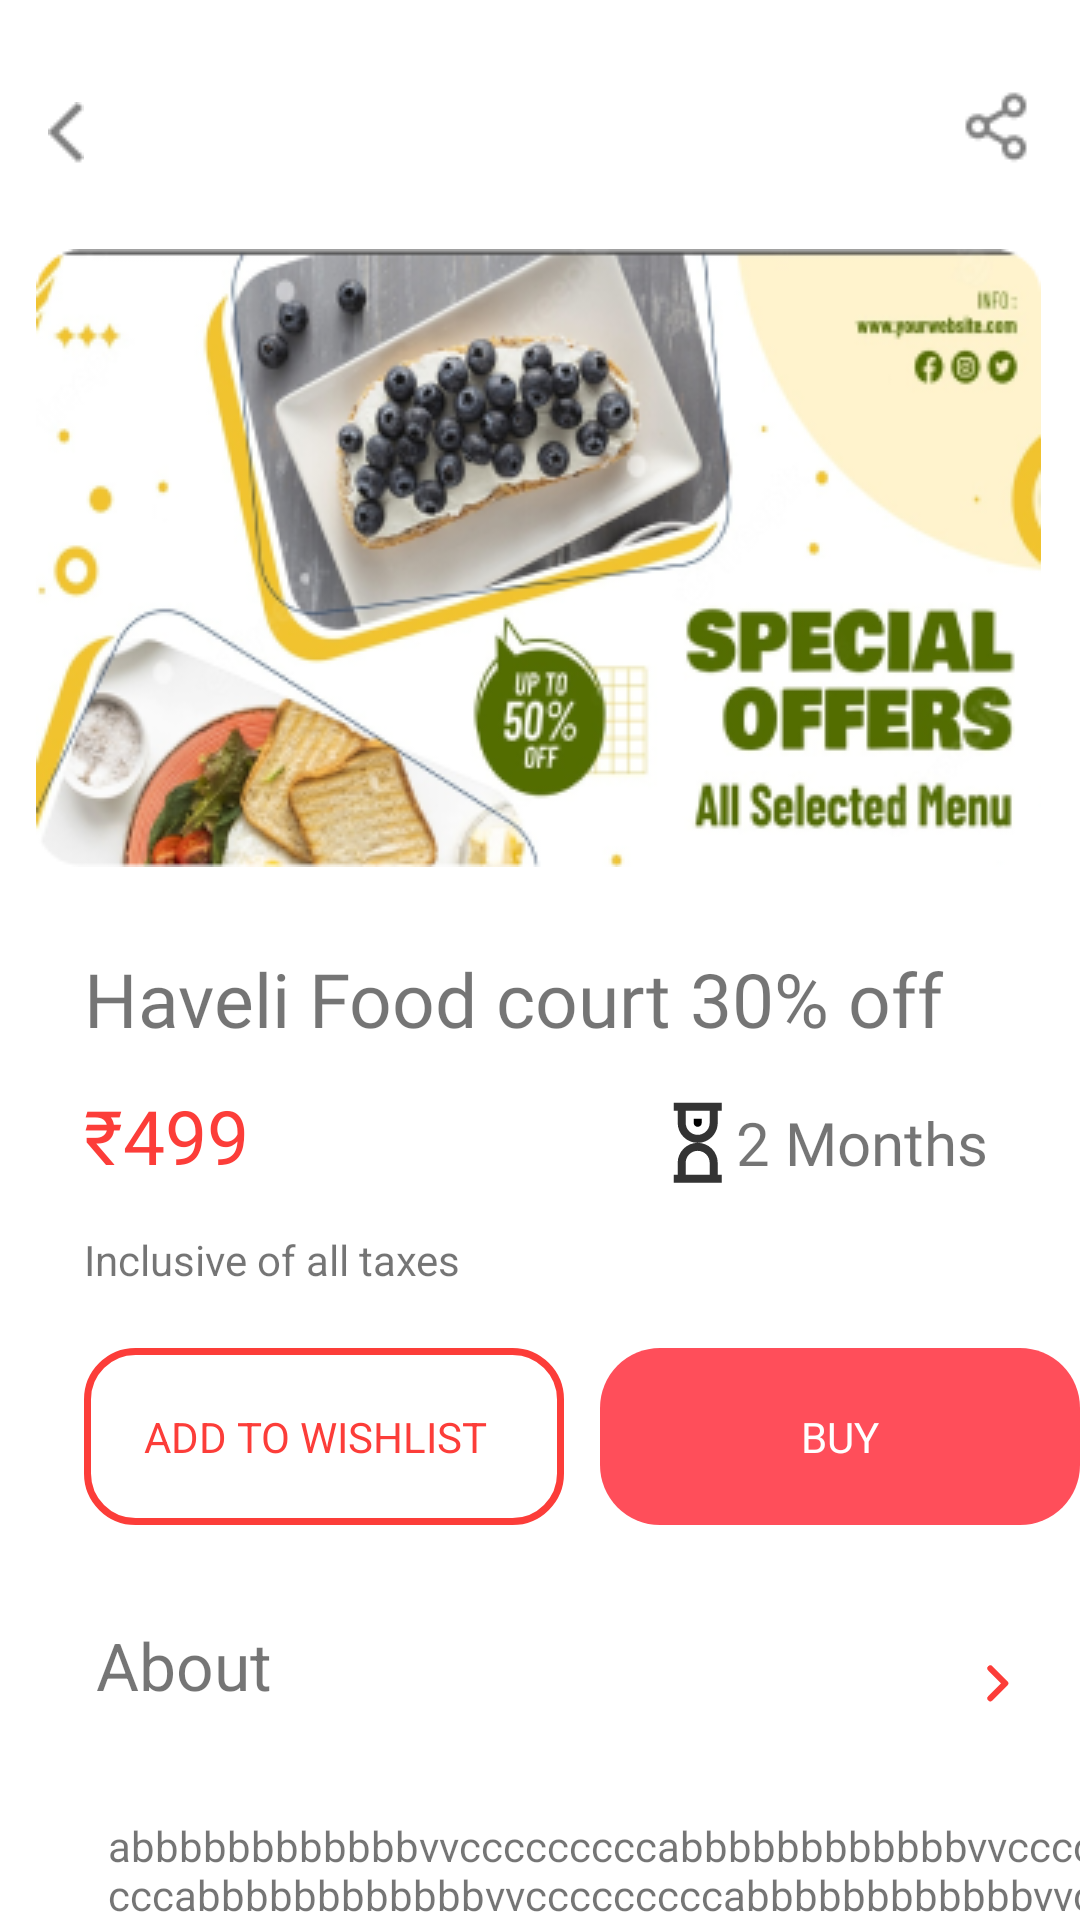

Icon bounding boxes for this 1080x1920 phone screenshot, format (x1, y1, x2, y2):
arrow: (48, 102, 84, 162), (987, 1665, 1009, 1702)
share: (965, 92, 1027, 160)
watchglass: (673, 1102, 722, 1183)
